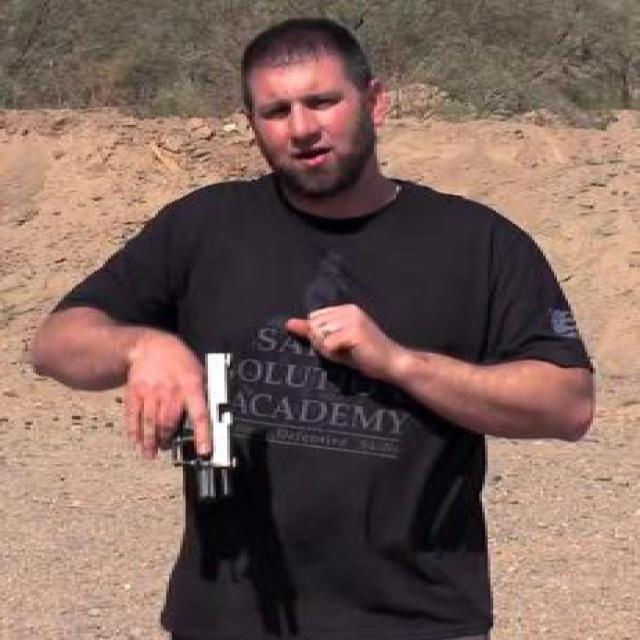weapon: (158, 350, 240, 502)
